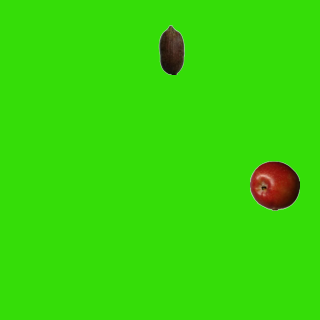Apple Braeburn: (249, 160, 299, 210)
Nut Pecan: (146, 24, 196, 74)
